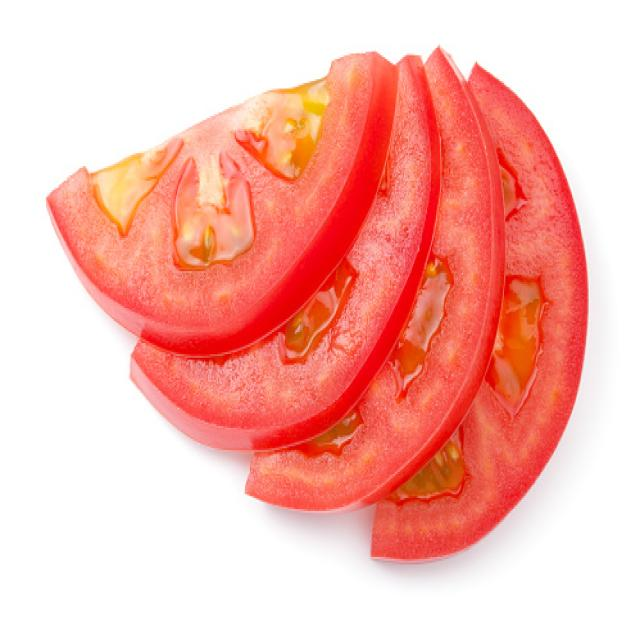Tomato: (62, 68, 386, 352)
